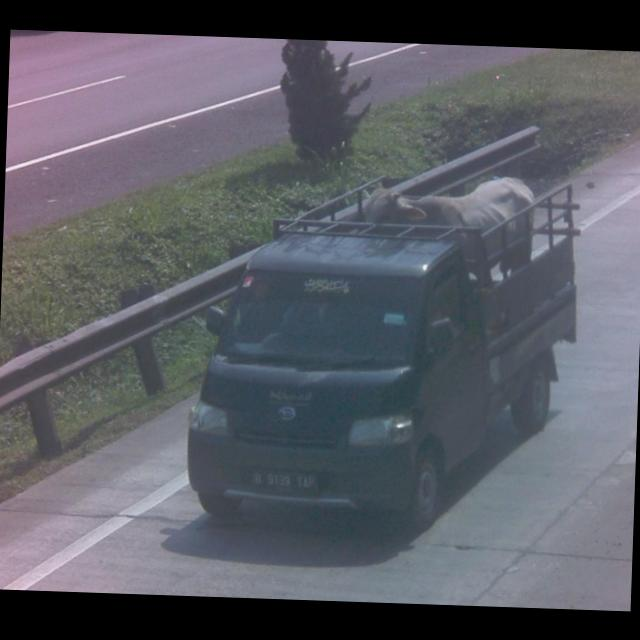plate: (248, 466, 320, 498)
